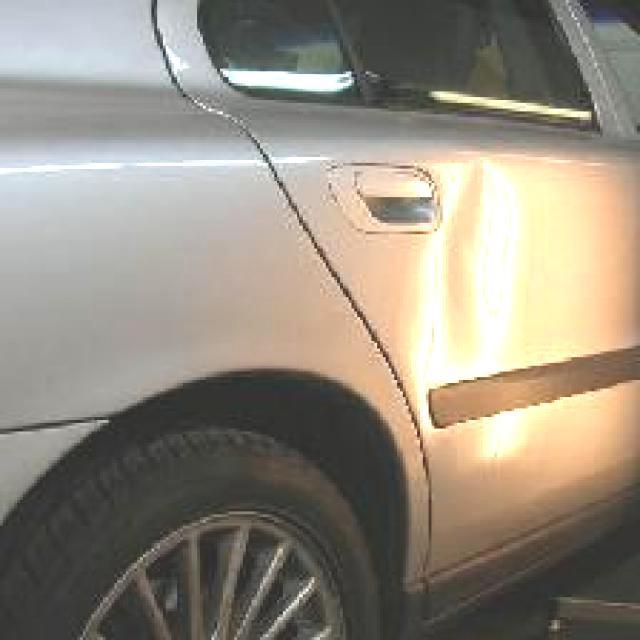minor: (426, 138, 532, 385)
